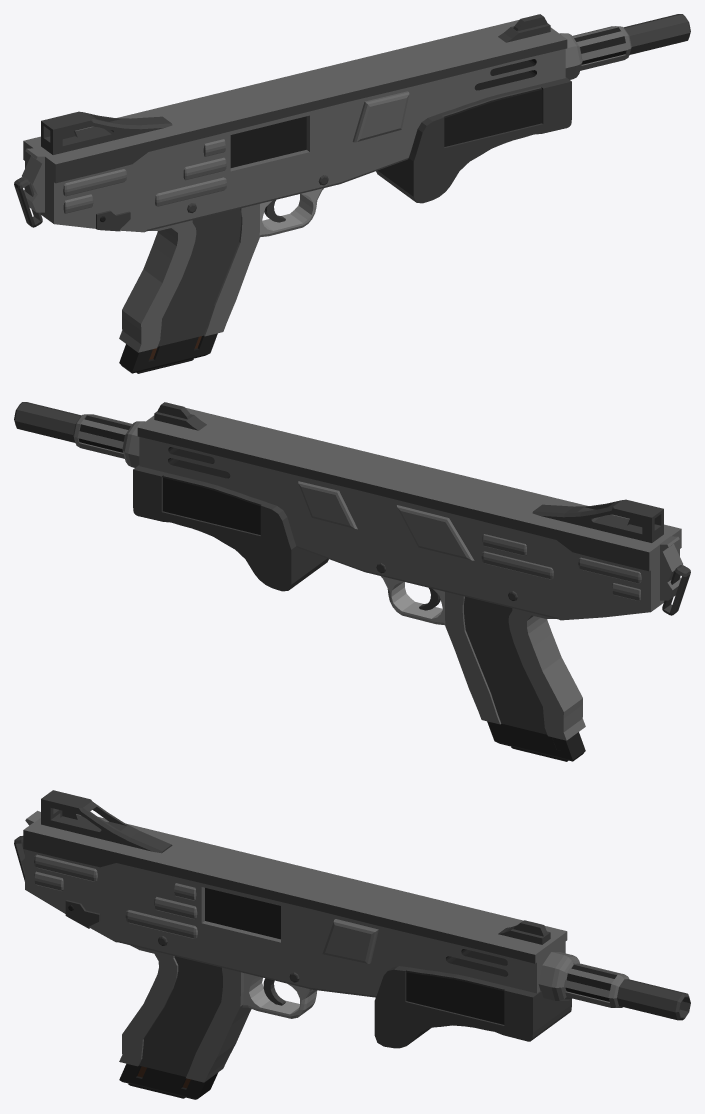
File: mag7.glb
The picture shows the model from 3 angles, top to bottom: view 1: azimuth 30°, elevation 25°; view 2: azimuth 150°, elevation 25°; view 3: azimuth 330°, elevation 25°; orthographic projection.
Parts seen in each view (by area): view 1: main, mag; view 2: main, mag; view 3: main, mag.
Part boxes in pixels (x1=…): main: x1=14, y1=14, x2=690, y2=352; mag: x1=119, y1=333, x2=217, y2=373; main: x1=14, y1=402, x2=690, y2=740; mag: x1=487, y1=721, x2=585, y2=761; main: x1=14, y1=790, x2=690, y2=1082; mag: x1=119, y1=1063, x2=218, y2=1099.
Bounding box in the file's own units: 1.29 × 0.4939 × 0.1309.
Materials: 1 (1 with a texture image).
